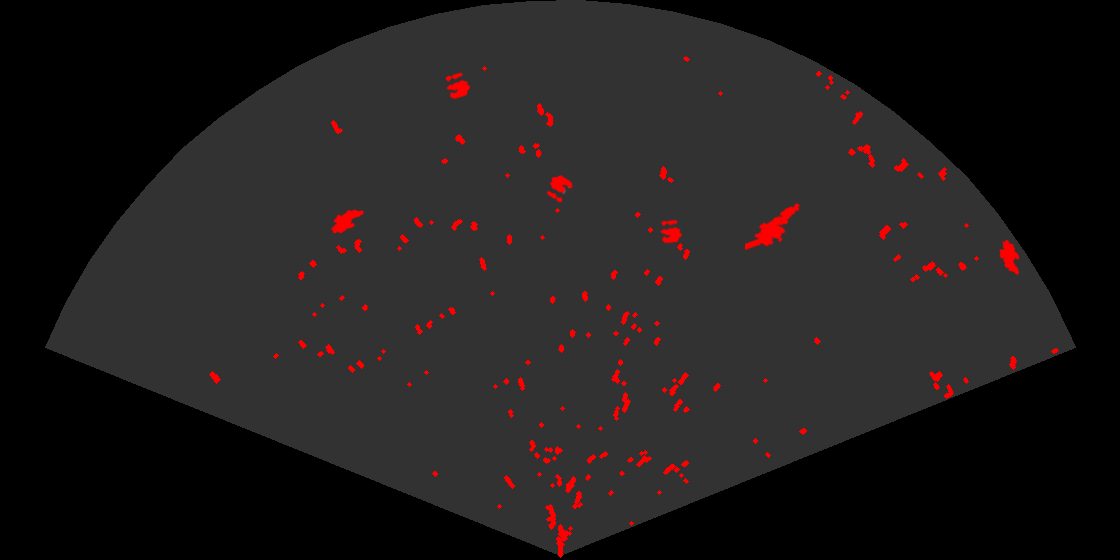AUV: (330, 208, 366, 235), (998, 238, 1021, 277)
ball: (545, 173, 575, 204), (444, 71, 472, 101), (659, 218, 684, 245)
frogman: (745, 202, 802, 252)
